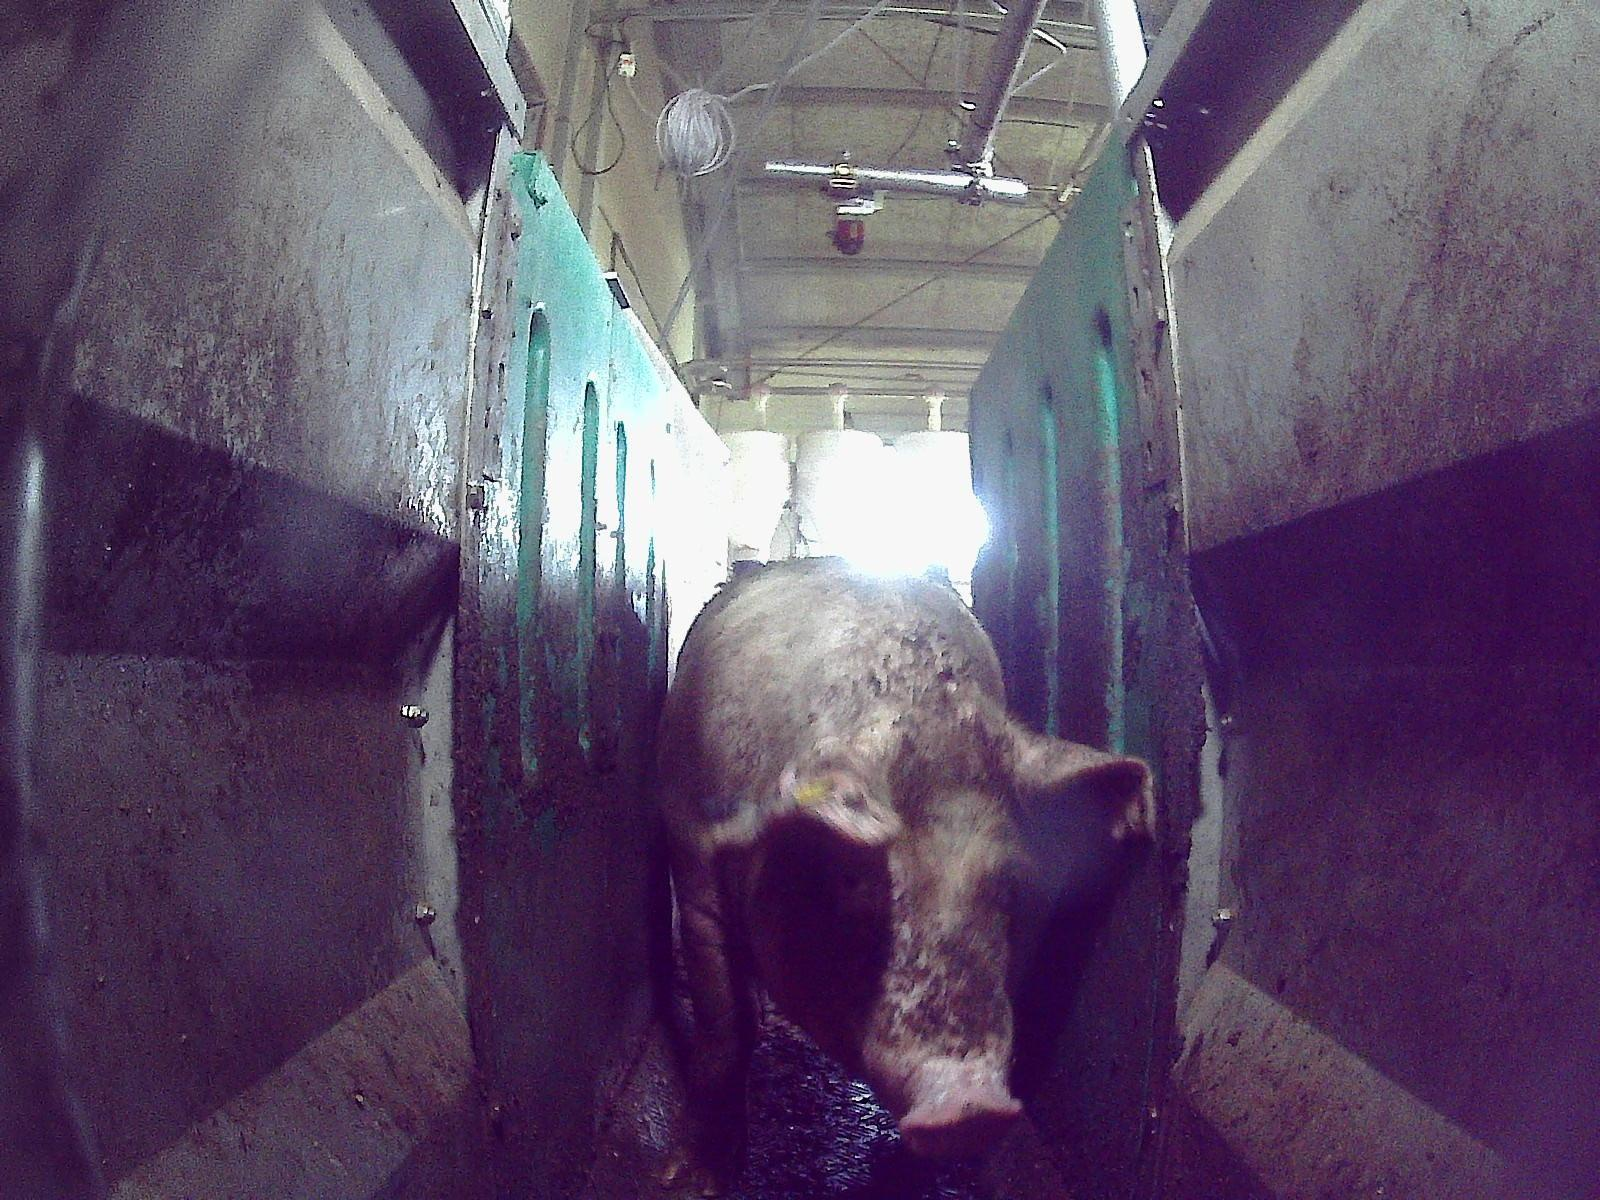Face: (753, 698, 1020, 1159)
